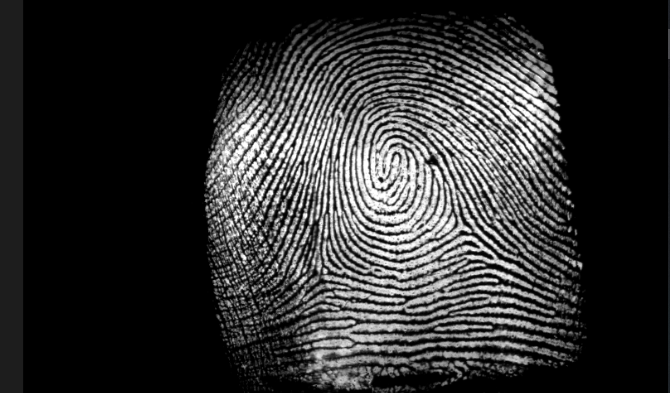nucelo: (382, 146, 405, 178)
verticilo: (446, 209, 479, 242), (308, 254, 338, 284)
